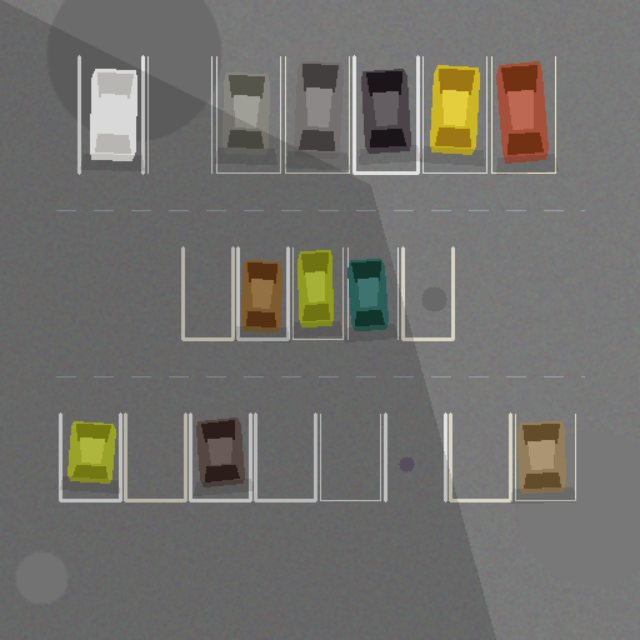space-empty: (147, 56, 211, 173), (125, 414, 185, 500), (255, 414, 315, 500), (320, 414, 380, 500), (385, 414, 445, 500), (450, 414, 510, 500), (183, 248, 233, 339), (403, 248, 453, 339)
space-occupied: (79, 56, 143, 173), (216, 56, 280, 173), (285, 56, 349, 173), (491, 56, 555, 173), (354, 56, 417, 173), (423, 56, 486, 173), (60, 414, 120, 500), (190, 414, 250, 500), (515, 414, 575, 500), (237, 248, 287, 339), (293, 248, 343, 339), (347, 248, 397, 339)
